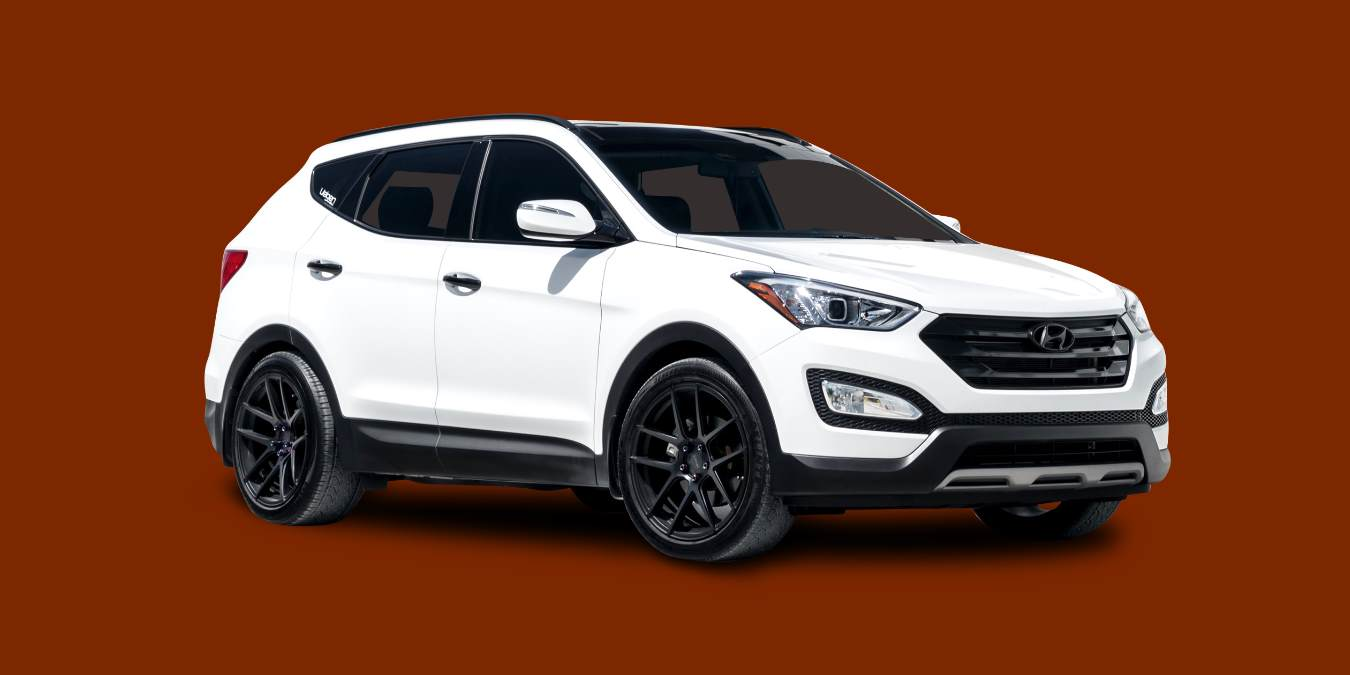car: (191, 74, 1193, 594)
